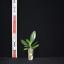leaf: (30, 31, 36, 45), (21, 39, 30, 46), (31, 41, 38, 47), (26, 39, 31, 46), (32, 44, 39, 48), (23, 48, 30, 50), (24, 45, 30, 47), (31, 48, 36, 49)
